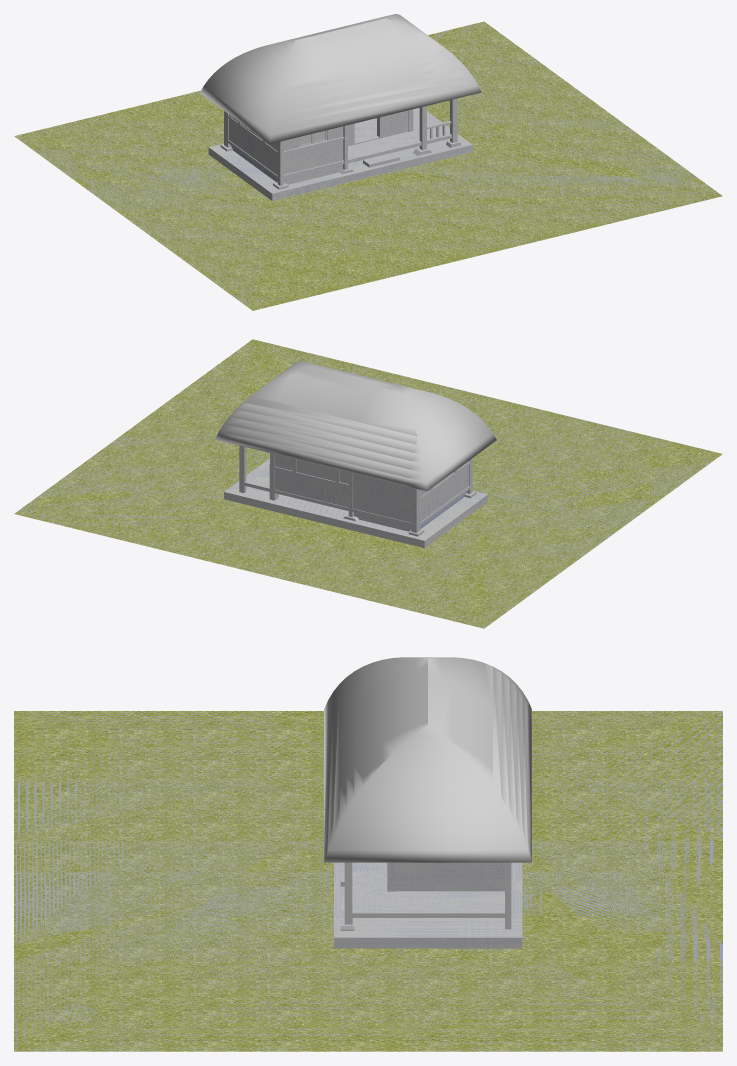
The picture shows the model from 3 angles, top to bottom: view 1: azimuth 30°, elevation 25°; view 2: azimuth 150°, elevation 25°; view 3: azimuth 270°, elevation 25°; orthographic projection. The views are drawn at different scales.
Parts seen in each view (by area): view 1: SketchUp (×2), group_1, group_0; view 2: SketchUp (×2), group_1, group_0; view 3: SketchUp (×2), group_1, group_0 (×2).
Part boxes in pixels (x1,y1,x2,y2): SketchUp (×2): (14,21,722,310); group_1: (200,14,481,143); group_0: (220,98,457,189); SketchUp (×2): (14,339,722,628); group_1: (215,361,496,491); group_0: (239,445,476,536); SketchUp (×2): (14,711,722,1051); group_1: (324,657,531,862); group_0 (×2): (344,862,511,929).
Size of the model in its own units: 691 by 608 by 174.
